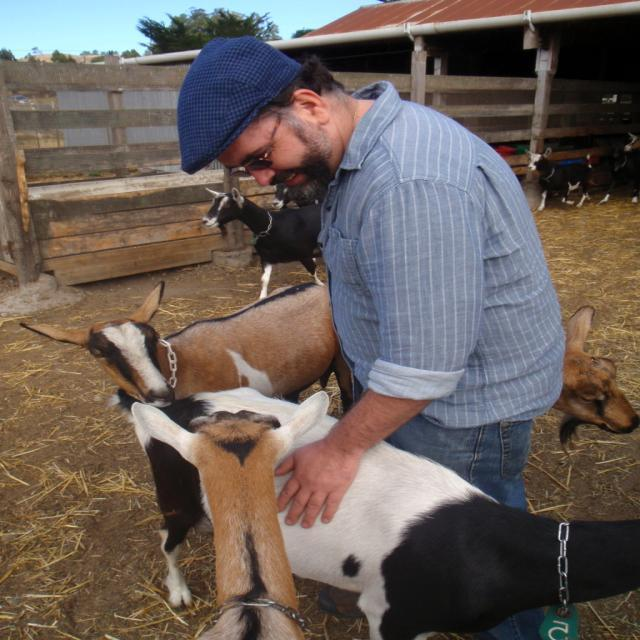Goat: (129, 384, 640, 639), (201, 185, 328, 300), (524, 147, 595, 212)
